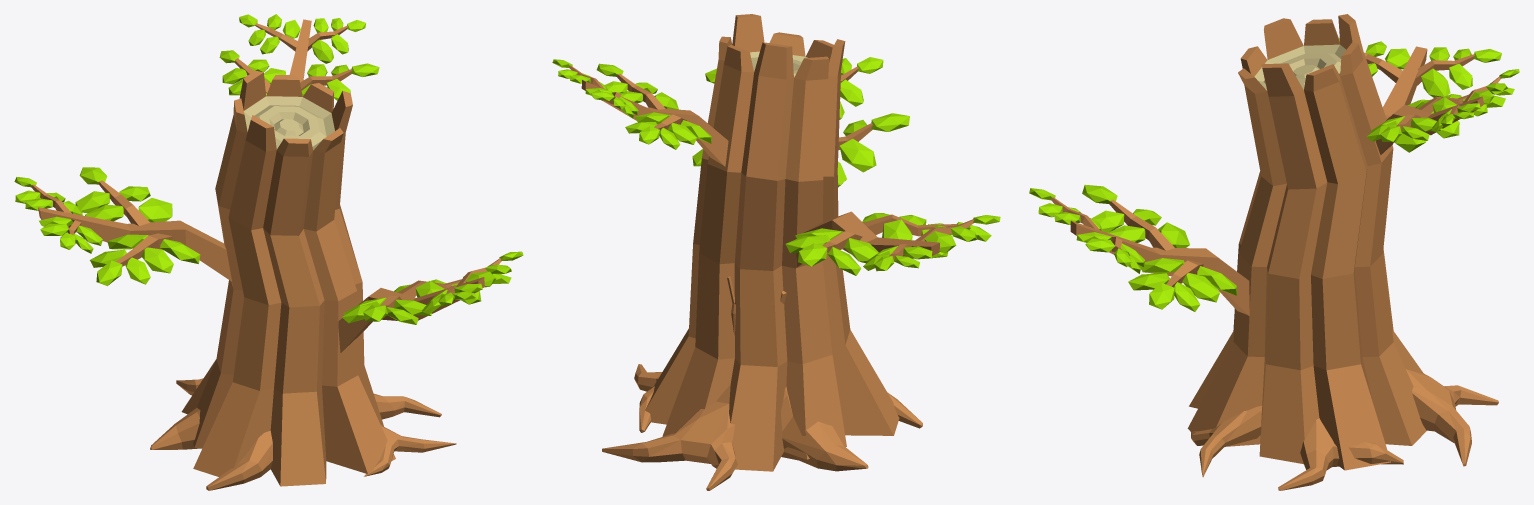
File: Tree_13.fbx
The picture shows the model from 3 angles, left to right: view 1: azimuth 30°, elevation 25°; view 2: azimuth 150°, elevation 25°; view 3: azimuth 270°, elevation 25°; orthographic projection. The views are drawn at different scales.
Parts seen in each view (by area): view 1: tree_12, Plane; view 2: tree_12, Plane; view 3: tree_12, Plane.
Boxes of the visible parts, <box> form: tree_12: <box>14,14,523,486</box>; Plane: <box>150,378,456,490</box>; tree_12: <box>552,14,1000,471</box>; Plane: <box>602,276,922,490</box>; tree_12: <box>1029,14,1519,470</box>; Plane: <box>1191,369,1498,490</box>.
Bounding box in the file's own units: 329 × 313 × 347.
